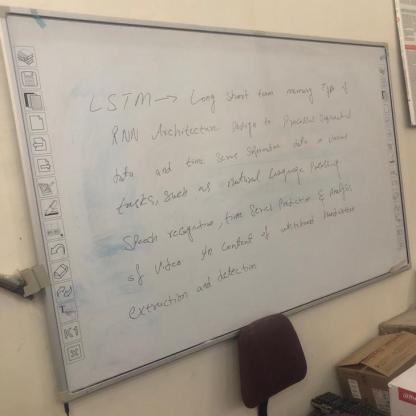Handwritten text: (108, 165, 360, 263), (120, 191, 365, 288), (80, 60, 361, 125), (101, 119, 364, 188), (100, 148, 353, 219), (111, 236, 273, 337), (100, 98, 363, 154)
